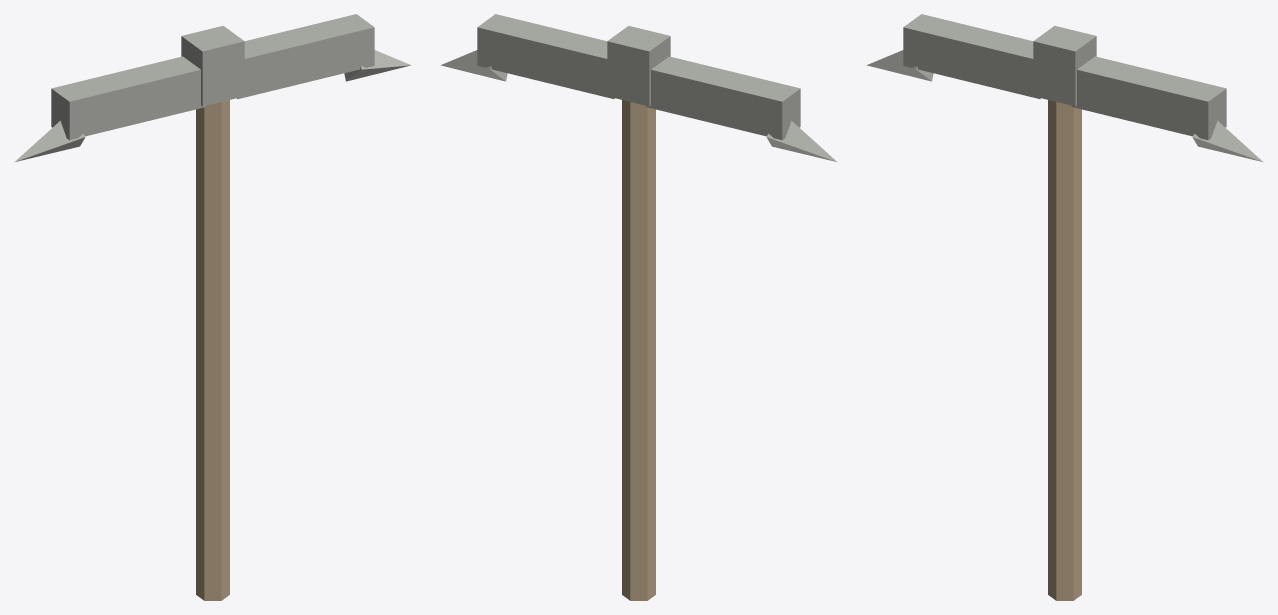
File: pickaxe.glb
The picture shows the model from 3 angles, left to right: view 1: azimuth 30°, elevation 25°; view 2: azimuth 150°, elevation 25°; view 3: azimuth 330°, elevation 25°; orthographic projection.
Visible parts, largest first — view 1: pickaxe_iron, pickaxe_wood; view 2: pickaxe_iron, pickaxe_wood; view 3: pickaxe_iron, pickaxe_wood.
Part boxes in pixels (<box>): pickaxe_iron: <box>14,14,410,162</box>; pickaxe_wood: <box>196,100,229,600</box>; pickaxe_iron: <box>441,14,837,162</box>; pickaxe_wood: <box>622,100,655,600</box>; pickaxe_iron: <box>867,14,1263,162</box>; pickaxe_wood: <box>1048,100,1081,600</box>.
Bounding box in the file's own units: 0.2518 × 0.3367 × 0.0233.
